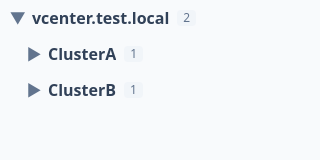
Scenario: InventoryTree (INV-01 — flatten-visible + lazy children) › count badge renders 0 (never an em-dash) for an empty node
// Expand ClusterB → its host esx-b1 has zero VMs → badge shows "0".
Click the button named "ClusterB": {"x": 34, "y": 90} [24,80,44,100]
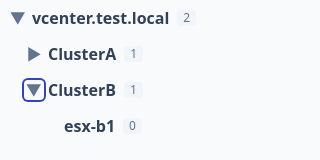
Expected: the text "esx-b1" is shown, [64,114,115,138]
Expected: the text "0" is shown, [123,118,142,134]
